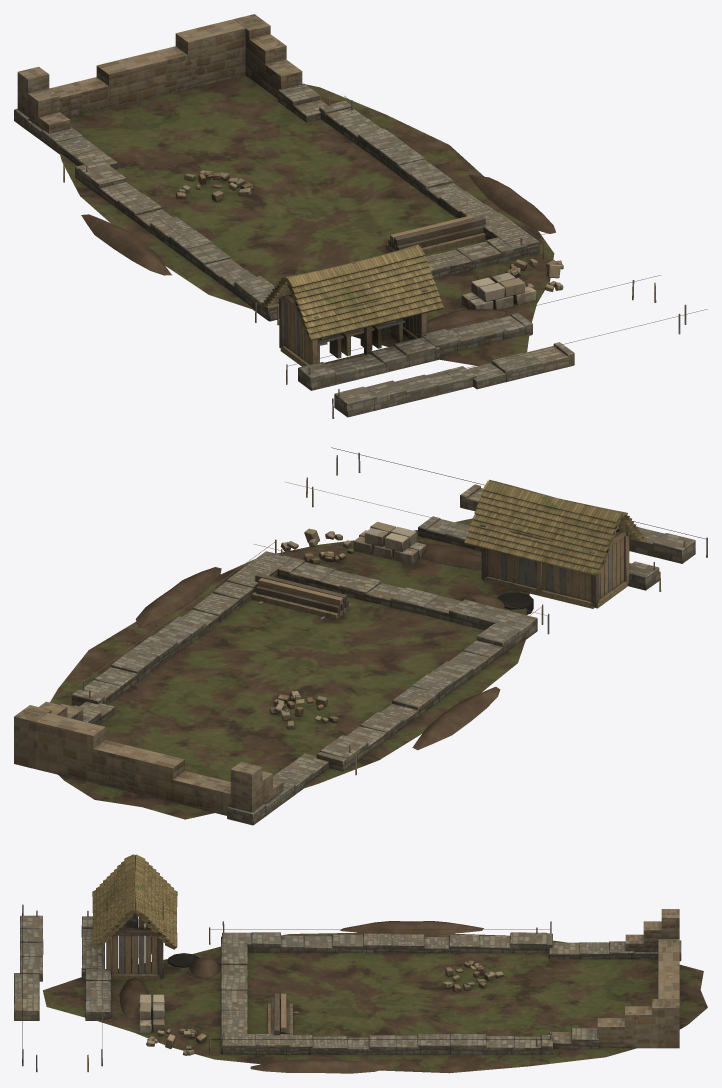
Rendered from hospital_build1.glb.
3 renders of one model, top to bottom at view 1: azimuth 30°, elevation 25°; view 2: azimuth 150°, elevation 25°; view 3: azimuth 270°, elevation 25°, orthographic. The views are drawn at different scales.
Visible parts, largest first — view 1: hospital_build1_LOD0; view 2: hospital_build1_LOD0; view 3: hospital_build1_LOD0.
Boxes of the visible parts, x1,y1,x2,y2 form: hospital_build1_LOD0: (14,14,707,418); hospital_build1_LOD0: (14,447,707,825); hospital_build1_LOD0: (14,854,707,1073).
Size of what is drawn, in the model's own units: 15.84 by 3.81 by 29.69.
1 material, 1 textured.
